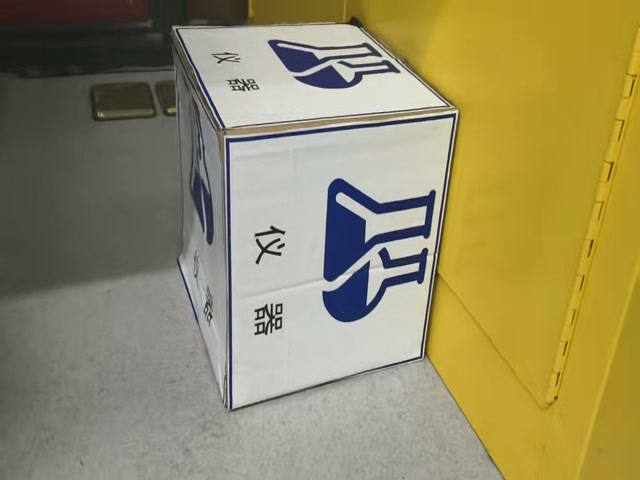Cube_ins: (174, 26, 458, 137)
